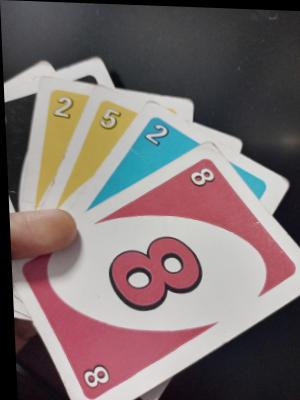num_2: (46, 85, 80, 126), (139, 112, 172, 149)
num_5: (95, 102, 124, 135)
num_8: (182, 159, 219, 189)
